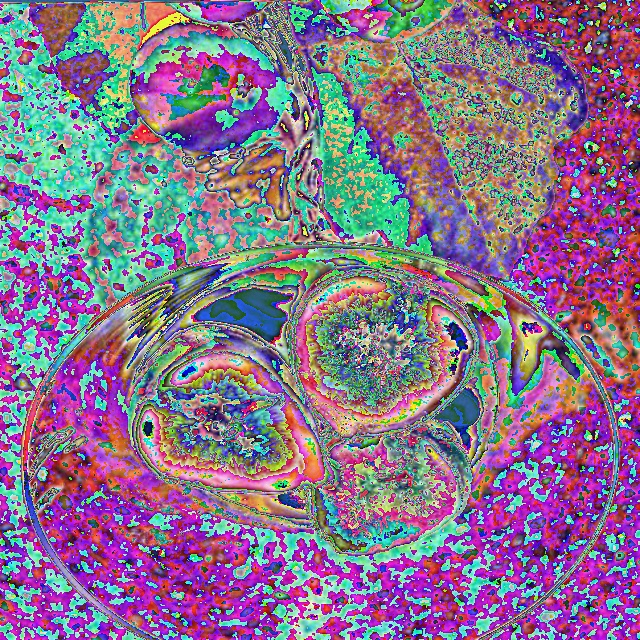background: (127, 260, 501, 559), (129, 0, 289, 154), (145, 0, 461, 47)
